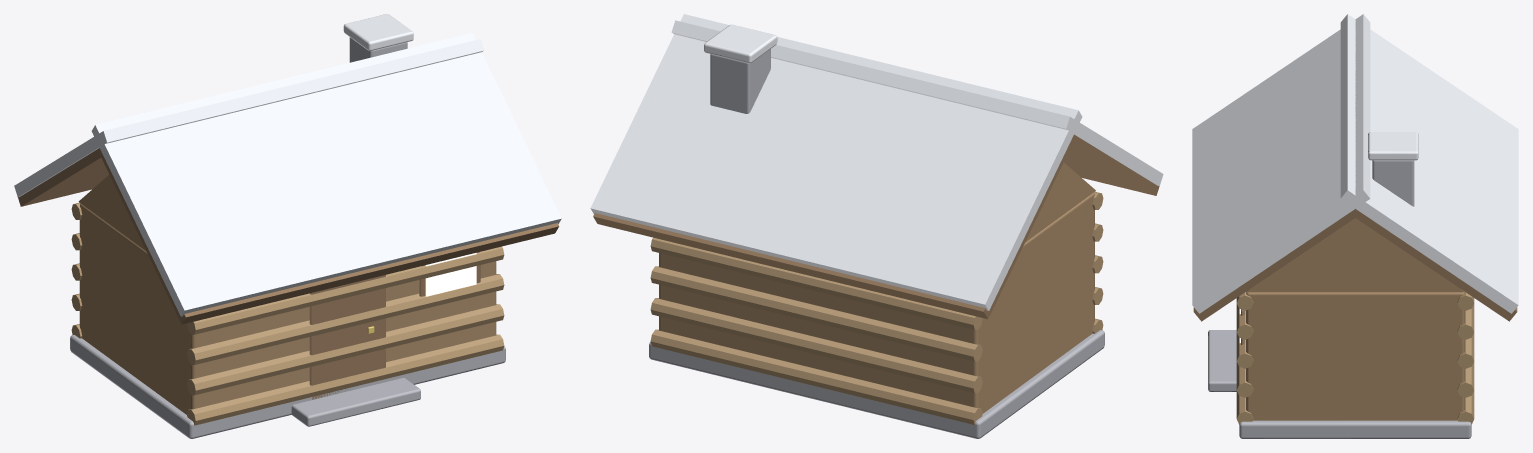
The model's file is house_viking.glb.
3 views of the same model, side by side, from view 1: azimuth 30°, elevation 25°; view 2: azimuth 150°, elevation 25°; view 3: azimuth 270°, elevation 25° (orthographic). The views are drawn at different scales.
Visible parts, largest first — view 1: roof_snow_front, walls, roof_snow_back, stone_base, logf1, logf0, logf2, door_frame, roof_front, logf3, step, roof_back (+4 smaller); view 2: roof_snow_back, walls, stone_base, roof_snow_front, logb1, logb2, logb0, roof_back, logb3, chimney, roof_front, gable_l (+1 smaller); view 3: roof_snow_front, roof_snow_back, walls, gable_r, stone_base, step, roof_back, roof_front, chimney_snow, chimney, logb2, logb3 (+6 smaller).
Boxes of the visible parts, <box> form: roof_snow_front: <box>91,33,561,316</box>; walls: <box>79,203,496,414</box>; roof_snow_back: <box>14,39,484,197</box>; stone_base: <box>70,335,505,438</box>; logf1: <box>187,304,504,395</box>; logf0: <box>187,334,504,425</box>; logf2: <box>187,274,504,364</box>; door_frame: <box>309,275,385,399</box>; roof_front: <box>97,148,559,324</box>; logf3: <box>187,246,504,334</box>; step: <box>291,378,420,426</box>; roof_back: <box>18,148,109,206</box>; roof_snow_back: <box>590,14,1082,310</box>; walls: <box>659,192,1094,413</box>; stone_base: <box>649,330,1104,438</box>; roof_snow_front: <box>671,20,1163,185</box>; logb1: <box>650,298,982,393</box>; logb2: <box>650,266,982,361</box>; logb0: <box>650,329,982,424</box>; roof_back: <box>593,134,1076,318</box>; logb3: <box>650,237,982,329</box>; chimney: <box>710,49,770,113</box>; roof_front: <box>1064,136,1159,195</box>; gable_l: <box>1025,162,1095,242</box>; roof_snow_front: <box>1192,14,1370,313</box>; roof_snow_back: <box>1340,14,1518,313</box>; walls: <box>1246,292,1464,420</box>; gable_r: <box>1246,218,1464,292</box>; stone_base: <box>1239,420,1471,438</box>; step: <box>1208,330,1236,391</box>; roof_back: <box>1349,209,1517,321</box>; roof_front: <box>1193,209,1361,321</box>; chimney_snow: <box>1368,132,1418,160</box>; chimney: <box>1372,160,1414,206</box>; logb2: <box>1457,332,1474,368</box>; logb3: <box>1457,303,1474,339</box>.
Size of the model in its own units: 4.95 by 3.62 by 3.87.
